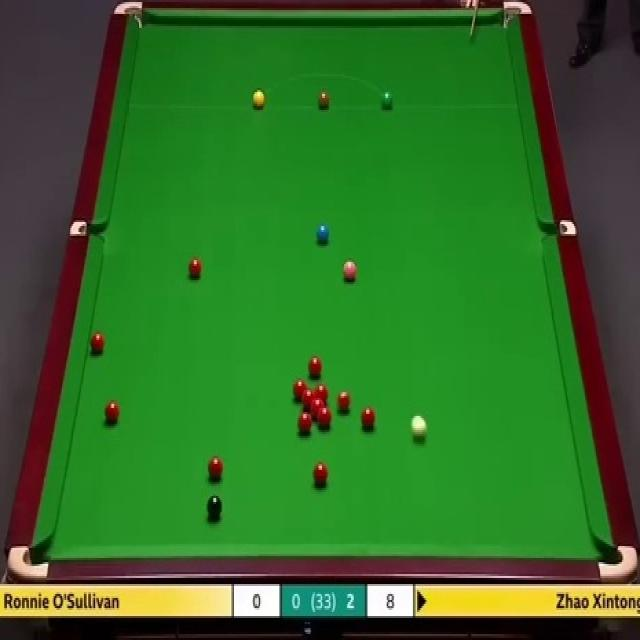black-ball: (207, 496, 223, 523)
blue-ball: (316, 222, 330, 245)
brown-ball: (318, 88, 330, 110)
green-ball: (380, 92, 393, 111)
pink-ball: (343, 260, 357, 281)
red-ball: (334, 387, 352, 415), (360, 406, 378, 432), (90, 331, 106, 358), (104, 398, 120, 425), (313, 461, 328, 487), (208, 456, 224, 480), (297, 411, 312, 436), (308, 356, 322, 380), (292, 378, 306, 402), (318, 406, 332, 429), (188, 257, 202, 278), (302, 389, 315, 408), (316, 384, 328, 404), (311, 399, 324, 417)
white-ball: (408, 413, 428, 445)
yellow-ball: (252, 90, 265, 111)
